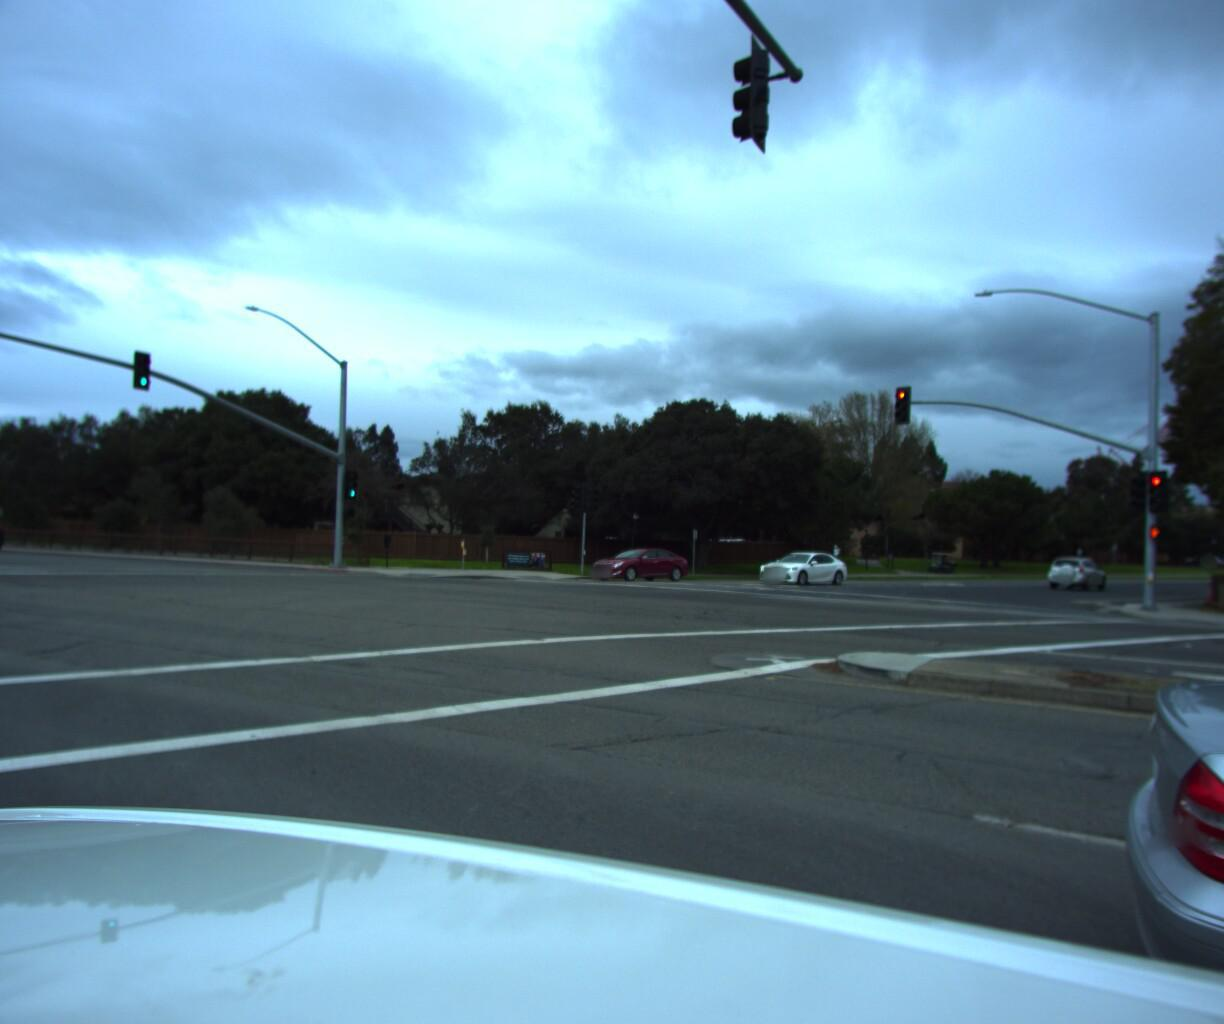car: (583, 537, 693, 576), (747, 543, 851, 580), (1036, 547, 1107, 584), (0, 513, 7, 550)
